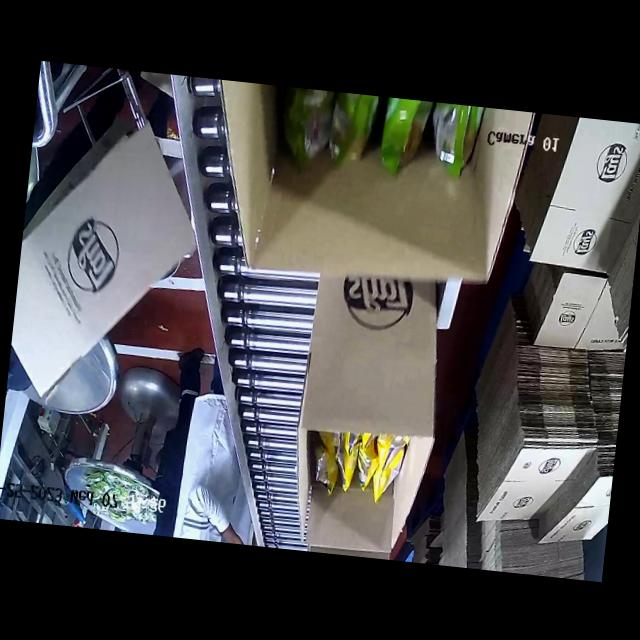salted: (318, 422, 412, 532)
yogurt: (268, 84, 501, 202)
